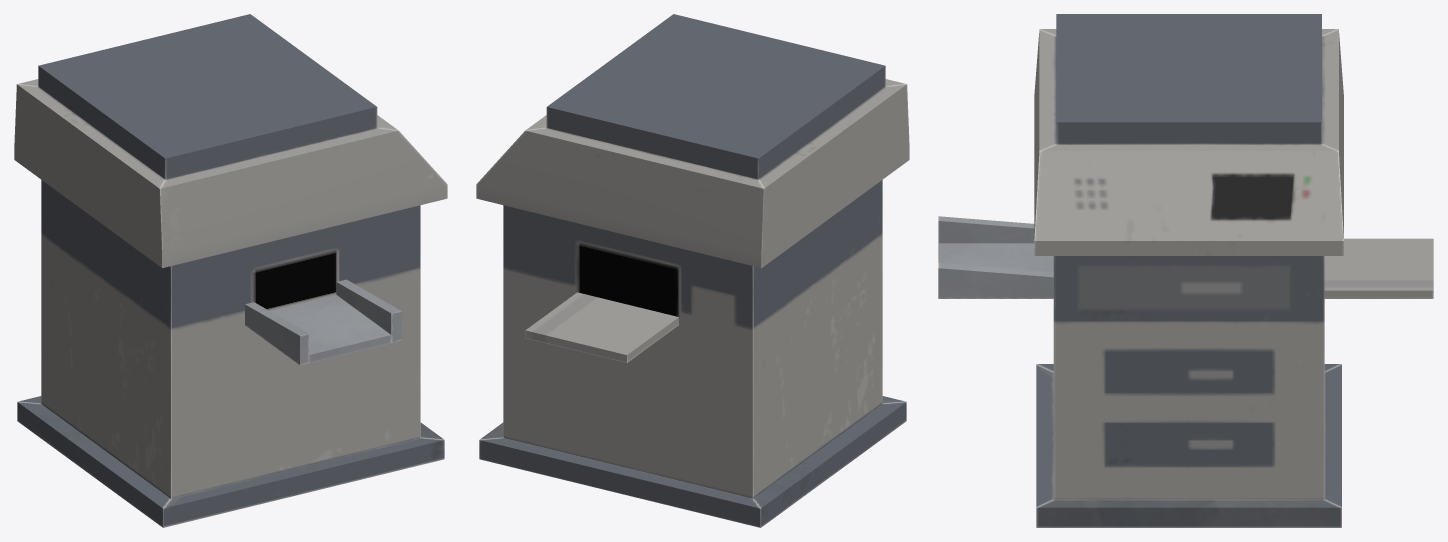
File: printer.fbx
3 renders of one model, left to right at view 1: azimuth 30°, elevation 25°; view 2: azimuth 150°, elevation 25°; view 3: azimuth 270°, elevation 25°, orthographic. The views are drawn at different scales.
Parts seen in each view (by area): view 1: Printer.001; view 2: Printer.001; view 3: Printer.001.
Boxes of the visible parts, x1,y1,x2,y2 form: Printer.001: [14, 14, 447, 527]; Printer.001: [476, 14, 909, 527]; Printer.001: [938, 14, 1433, 527].
Size of the model in its own units: 92.86 by 112 by 133.
